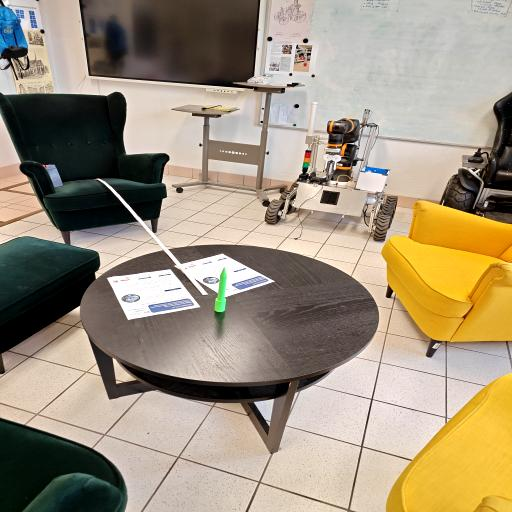Probe-Detection: (214, 267, 227, 312)
